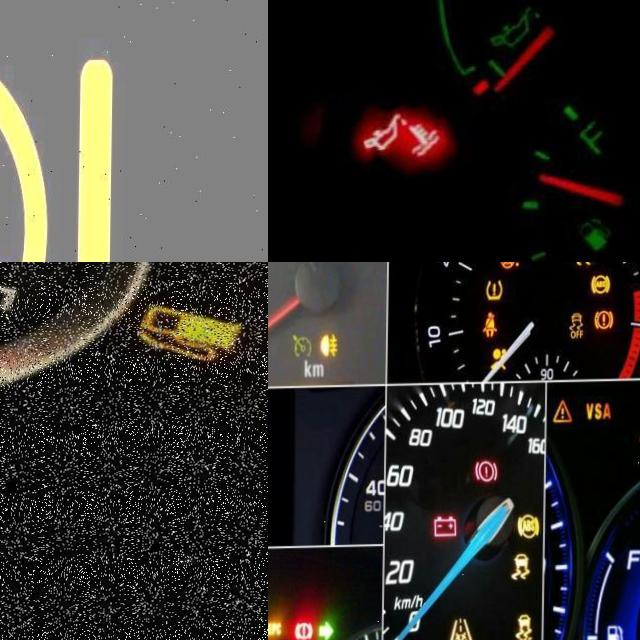Electronic Power Steering Warning: (0, 37, 121, 262), (500, 262, 520, 271)
Engine cooling system: (387, 114, 443, 167)
Low fuel level: (564, 213, 615, 262)
Seat Belt: (483, 313, 498, 339)
